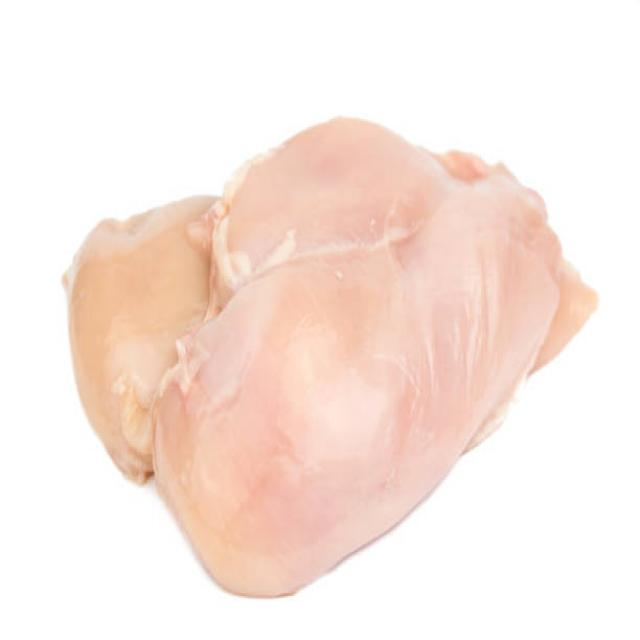Chicken Breast: (61, 87, 619, 606)
